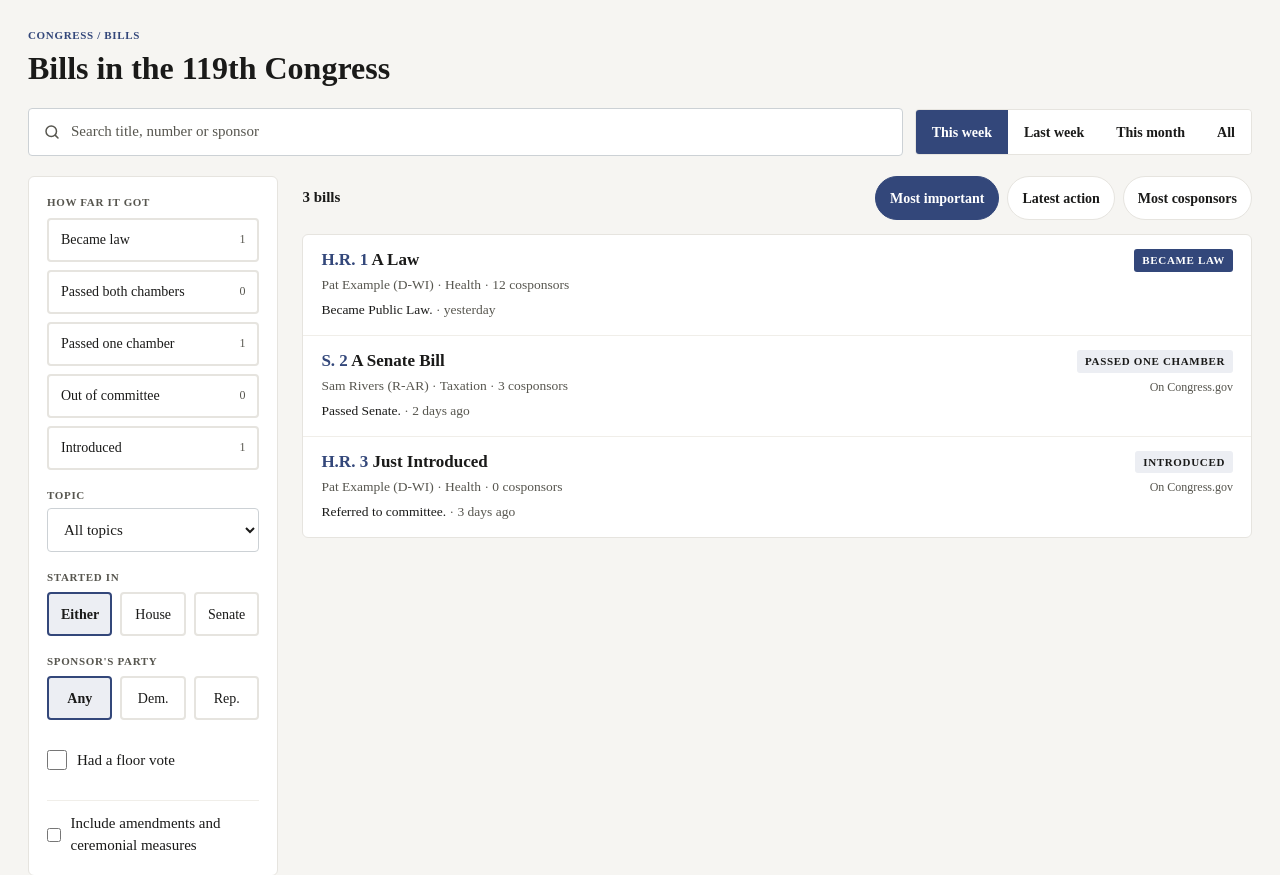
Test: BillBrowser › a search fetches the whole Congress and ignores the time filter
Expected: the message does not show "Loading", 302,187 -> 340,209
Type "old bill" into the search field at (479, 132), box 71,121 -> 888,143
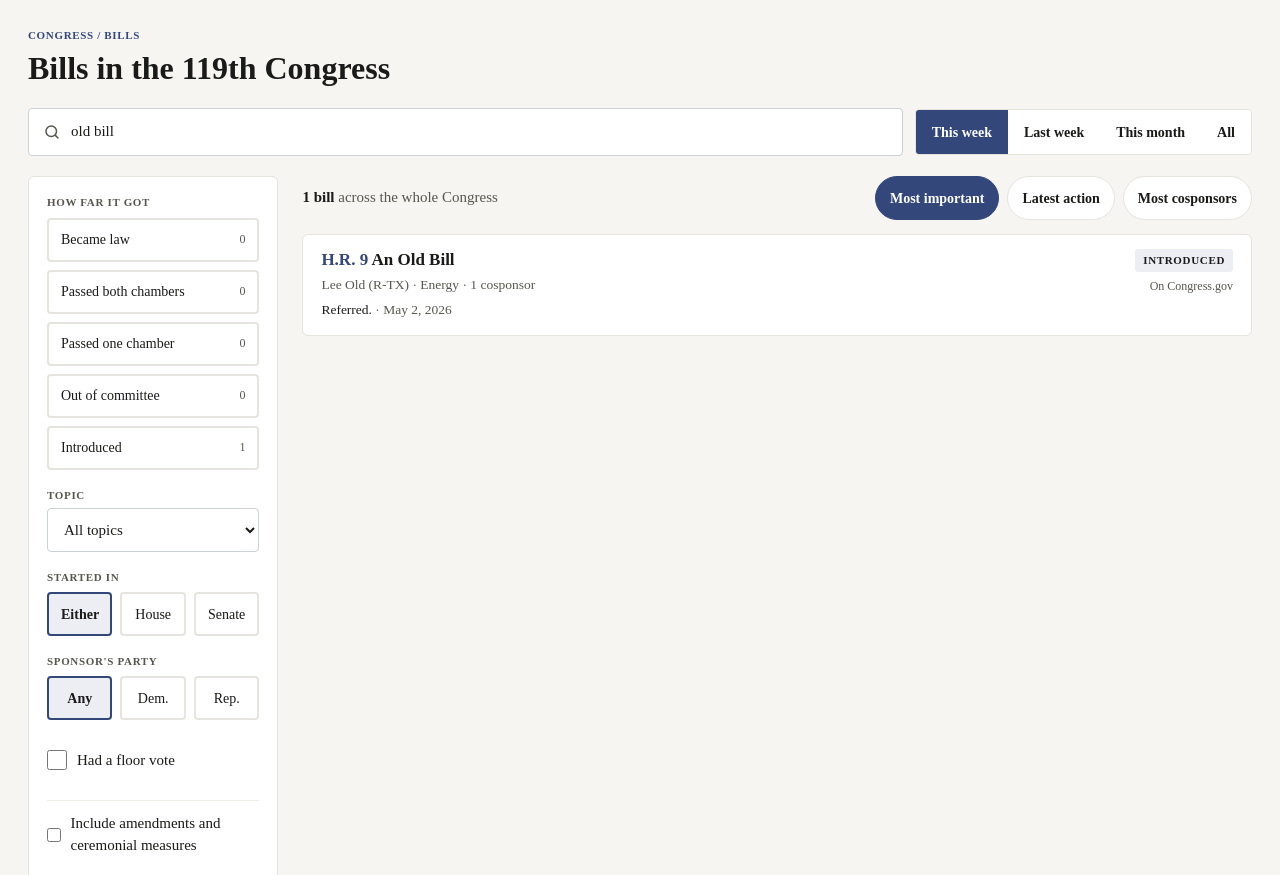
Expected: the message shows "1 bill", 302,187 -> 498,209
Expected: the message shows "across the whole Congress", 334,189 -> 498,205
